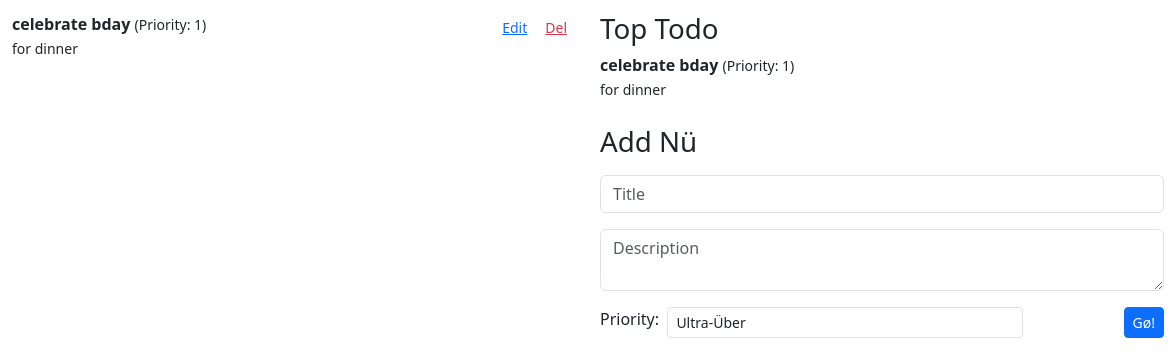
it: TodoApp › successfully deletes a todo
The width and height of the screenshot is (1176, 355).
What coordinates should you click on to do the following:
click the button "Del"
I would click on:
 (556, 28)
Its box is [536,12,576,43].
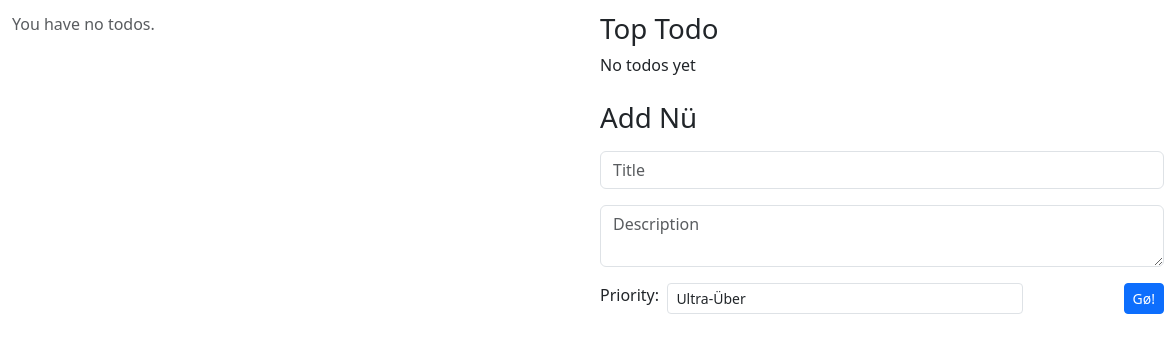
Now the text "You have no todos." is shown, box [12,13,155,35]
Now the text "for dinner" is gone
Now the button "Del" is gone
